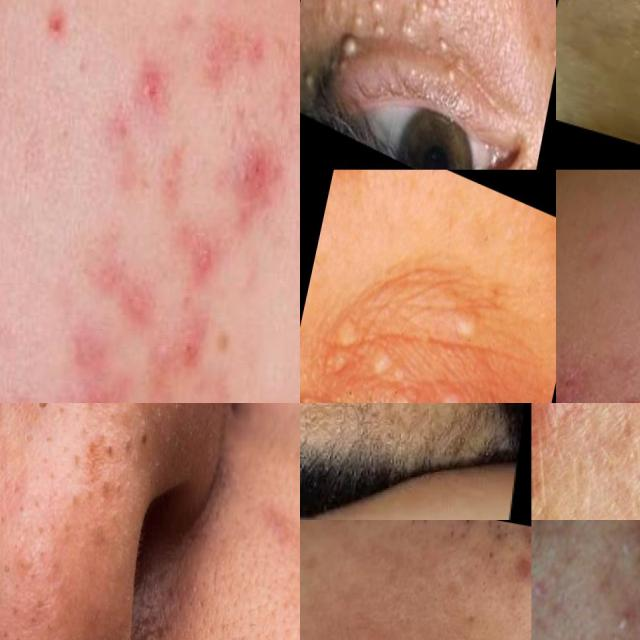comedone: (142, 431, 154, 451), (35, 403, 51, 415)
milium: (396, 0, 465, 72), (345, 0, 393, 51), (300, 61, 322, 98), (540, 21, 556, 70)
papule: (223, 146, 281, 257), (138, 52, 182, 141), (531, 403, 580, 457), (181, 321, 216, 393), (187, 229, 216, 291), (604, 596, 639, 640)
syringoma: (307, 305, 478, 403), (431, 290, 489, 354)
